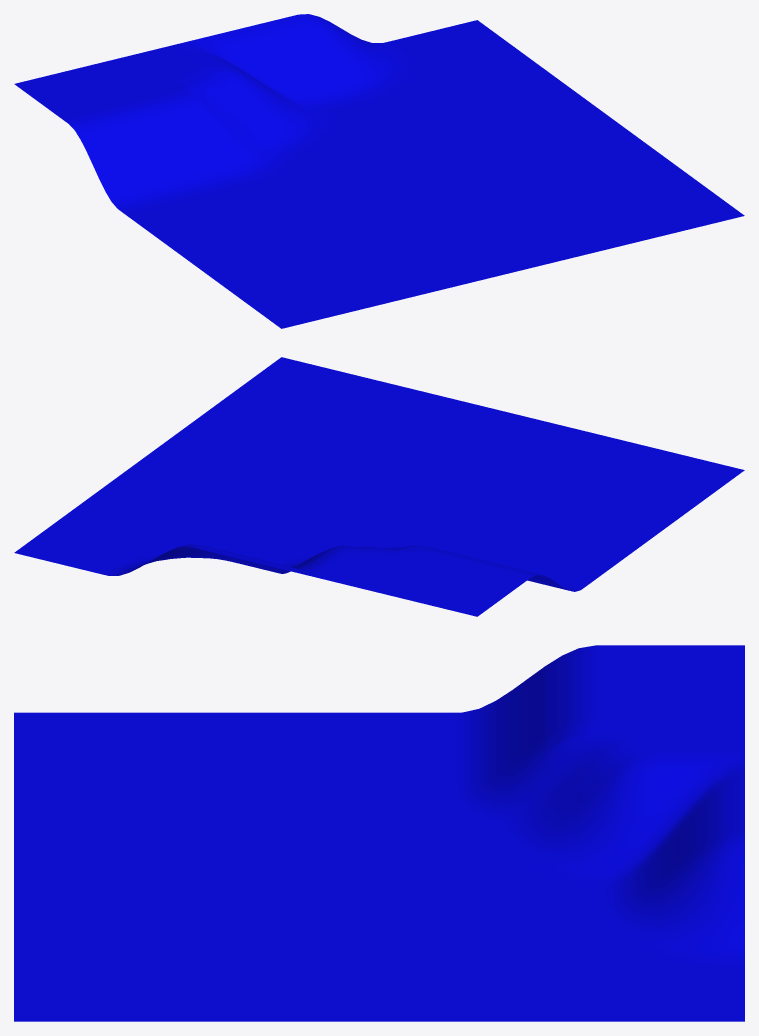
Rendered from CHUNK_1_0.glb.
3 views of the same model, one above another, from view 1: azimuth 30°, elevation 25°; view 2: azimuth 150°, elevation 25°; view 3: azimuth 270°, elevation 25° (orthographic). The views are drawn at different scales.
Visible parts, largest first — view 1: Chunk_1_0; view 2: Chunk_1_0; view 3: Chunk_1_0.
Boxes of the visible parts, x1,y1,x2,y2 form: Chunk_1_0: (14,14,744,328); Chunk_1_0: (14,357,744,616); Chunk_1_0: (14,645,744,1021).
Bounding box in the file's own units: 100 × 10.13 × 100.
